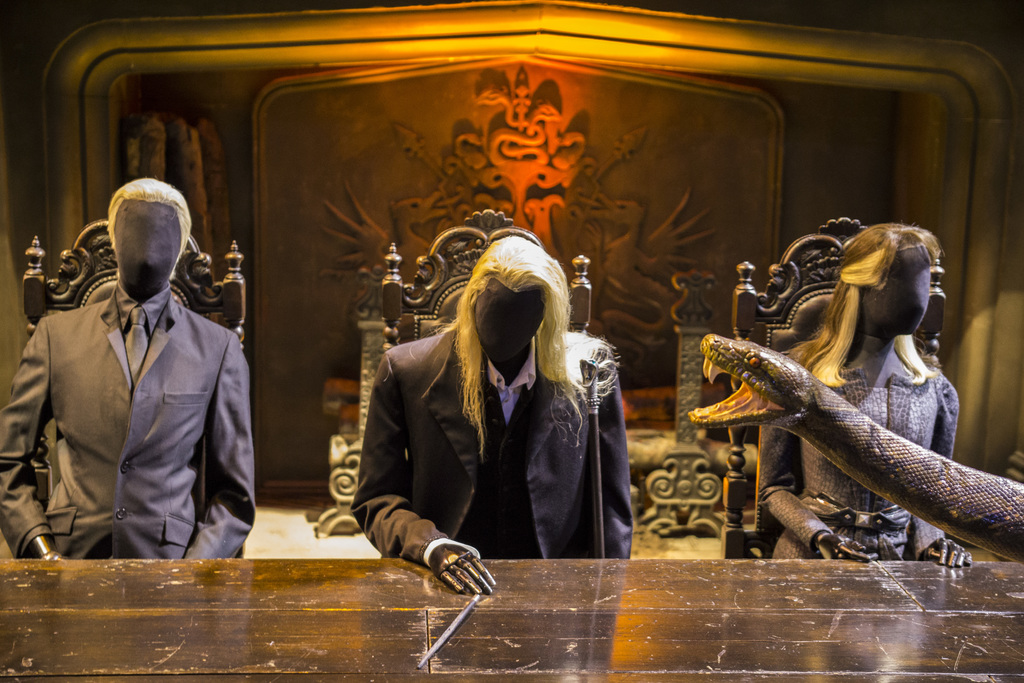Person: (758, 218, 971, 567)
